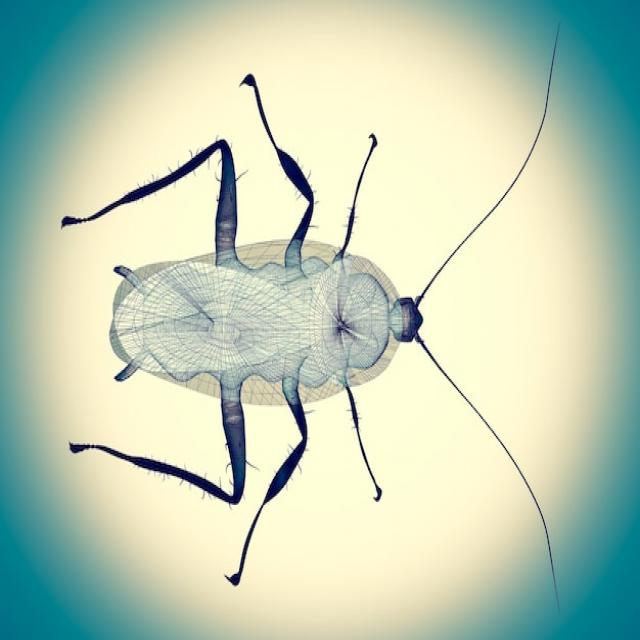Cockroach: (53, 22, 571, 623)
